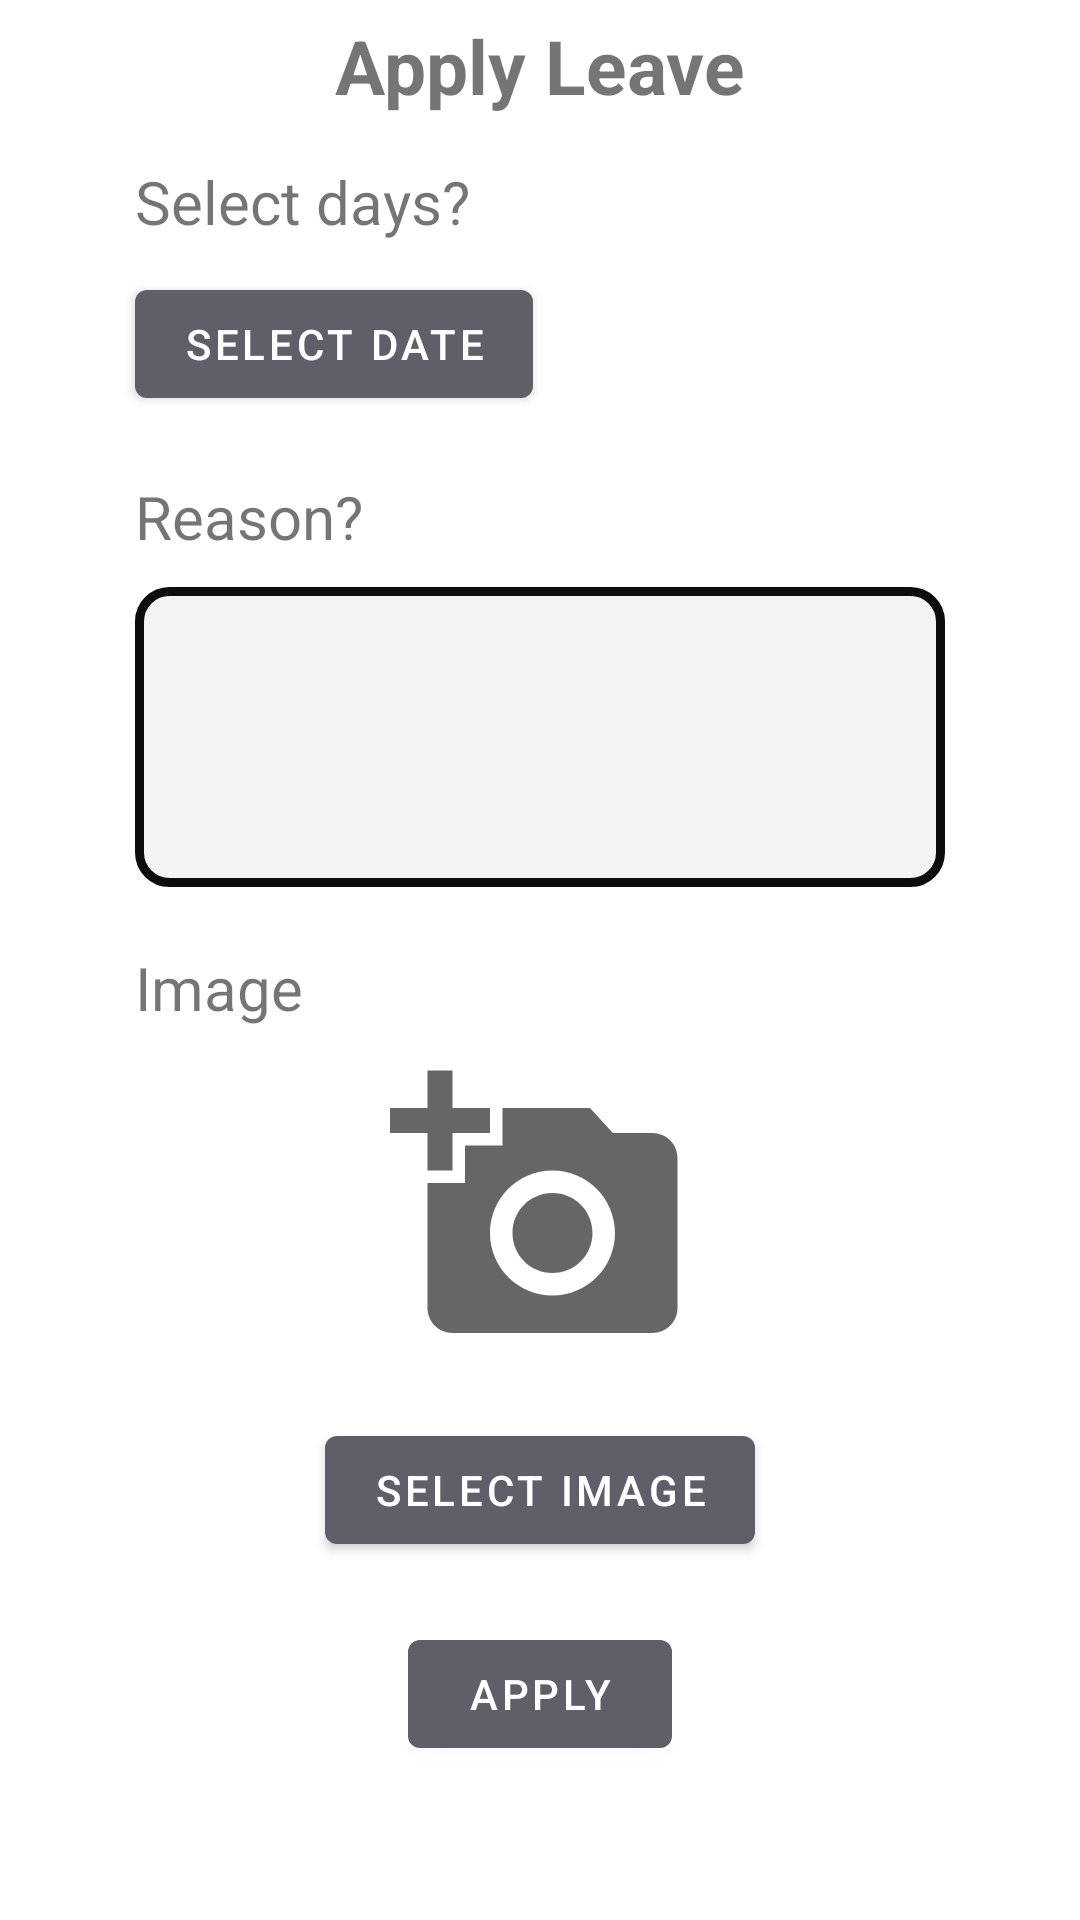

Named icons in this screenshot (1080×1920) and their bounding boxes, box=[x1, y1, x2, y2]:
add photo: box=[390, 1070, 678, 1333]
